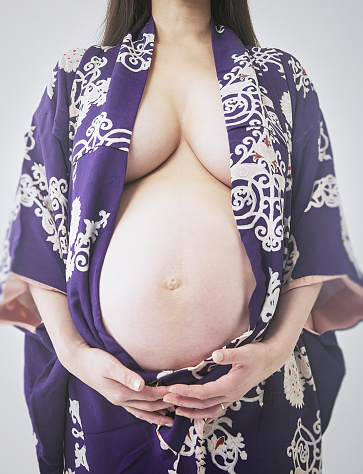em pe: (0, 0, 363, 467)
